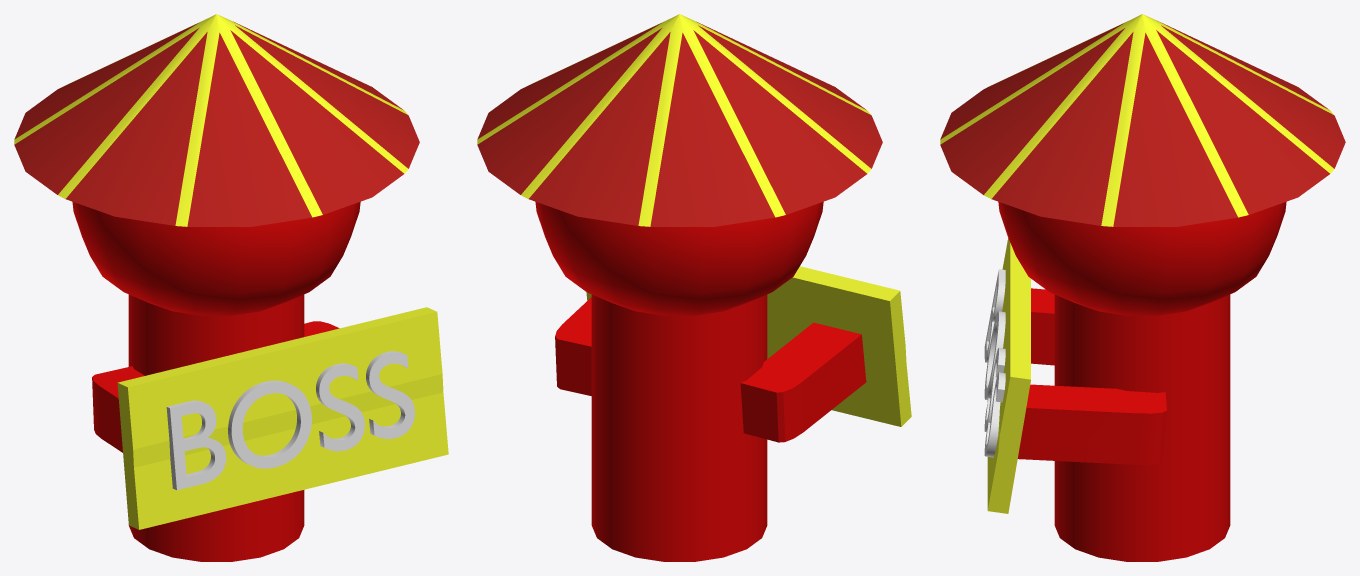
File: Boss.fbx
3 renders of one model, left to right at view 1: azimuth 30°, elevation 25°; view 2: azimuth 150°, elevation 25°; view 3: azimuth 270°, elevation 25°, orthographic.
Visible parts, largest first — view 1: Cone; view 2: Cone; view 3: Cone.
Boxes of the visible parts, <box> form: Cone: <box>14,14,448,561</box>; Cone: <box>477,14,911,561</box>; Cone: <box>940,14,1345,561</box>.
Size of the model in its own units: 317 by 447 by 321.
